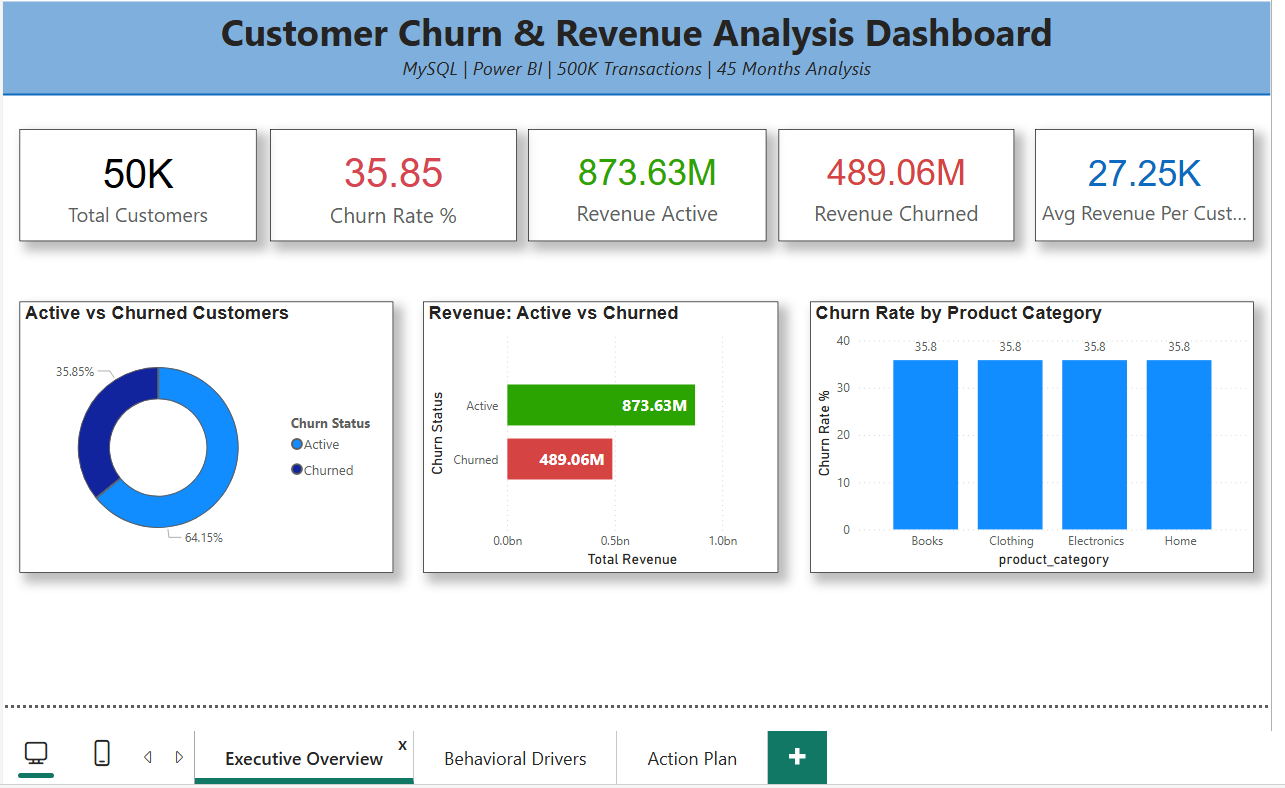

The dashboard page shown, as its layout file describes it:
{"tool":"powerbi","page":{"name":"Executive Overview","canvas":[1280,720],"ordinal":0},"visuals":[{"type":"card","fields":{"Values":["ecommerce_sales customer_clean.Total Customers"]},"box":[17.2,138.9,239.2,113.2],"z":0},{"type":"card","fields":{"Values":["ecommerce_sales customer_clean.Churn Rate %"]},"box":[269.3,138.9,249.2,113.2],"z":1000},{"type":"card","fields":{"Values":["ecommerce_sales customer_clean.Revenue Active"]},"box":[530,138.9,240.6,113.2],"z":2000},{"type":"card","fields":{"Values":["ecommerce_sales customer_clean.Revenue Churned"]},"box":[783.5,138.9,237.8,113.2],"z":3000},{"type":"card","fields":{"Values":["ecommerce_sales customer_clean.Avg Revenue Per Customer"]},"box":[1041.3,138.9,220.6,113.2],"z":4000},{"type":"donutChart","title":" Active vs Churned Customers","fields":{"Y":["ecommerce_sales customer_clean.Total Customers"],"Category":["ecommerce_sales customer_clean.Churn Status"]},"box":[16.7,313.4,377,274.1],"z":5000},{"type":"clusteredBarChart","title":"Revenue: Active vs Churned","fields":{"Category":["ecommerce_sales customer_clean.Churn Status"],"Y":["ecommerce_sales customer_clean.Total Revenue"]},"box":[424,313.4,358.9,274.1],"z":6000},{"type":"clusteredColumnChart","title":"Churn Rate by Product Category","fields":{"Category":["ecommerce_sales products_clean.product_category"],"Y":["ecommerce_sales customer_clean.Churn Rate %"]},"box":[814.6,313.4,448.2,274.1],"z":7000},{"type":"textbox","box":[0,10.6,1279.5,93.9],"z":7001},{"type":"shape","box":[0,95.4,1279.5,18.2],"z":7002}]}

Visuals, with their boxes in screenshot pixels (x1, y1, x2, y2):
card - ecommerce_sales customer_clean.Total Customers: {"x1": 17, "y1": 127, "x2": 254, "y2": 240}
card - ecommerce_sales customer_clean.Churn Rate %: {"x1": 267, "y1": 127, "x2": 513, "y2": 240}
card - ecommerce_sales customer_clean.Revenue Active: {"x1": 525, "y1": 127, "x2": 763, "y2": 240}
card - ecommerce_sales customer_clean.Revenue Churned: {"x1": 776, "y1": 127, "x2": 1011, "y2": 240}
card - ecommerce_sales customer_clean.Avg Revenue Per Customer: {"x1": 1031, "y1": 127, "x2": 1249, "y2": 240}
" Active vs Churned Customers" donutChart: {"x1": 17, "y1": 300, "x2": 390, "y2": 572}
"Revenue: Active vs Churned" clusteredBarChart: {"x1": 420, "y1": 300, "x2": 775, "y2": 572}
"Churn Rate by Product Category" clusteredColumnChart: {"x1": 806, "y1": 300, "x2": 1250, "y2": 572}
textbox: {"x1": 0, "y1": 0, "x2": 1267, "y2": 93}
shape: {"x1": 0, "y1": 84, "x2": 1267, "y2": 102}
